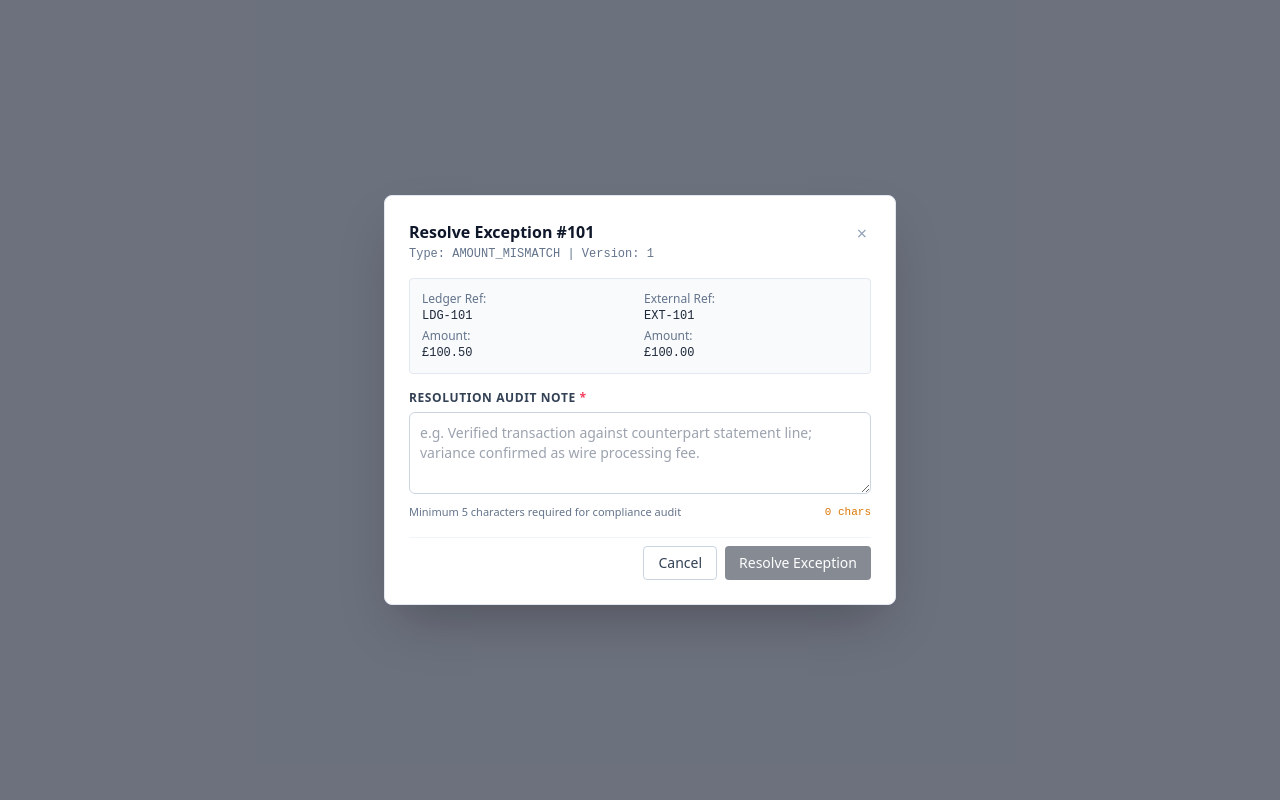
ResolveExceptionModal › requires confirmation step before final submission
This screenshot has width=1280, height=800.
Replace the text in the text box with placeholder "Verified transaction" with "Manual confirmation of FX difference" at (640,453), box [409, 412, 871, 494]
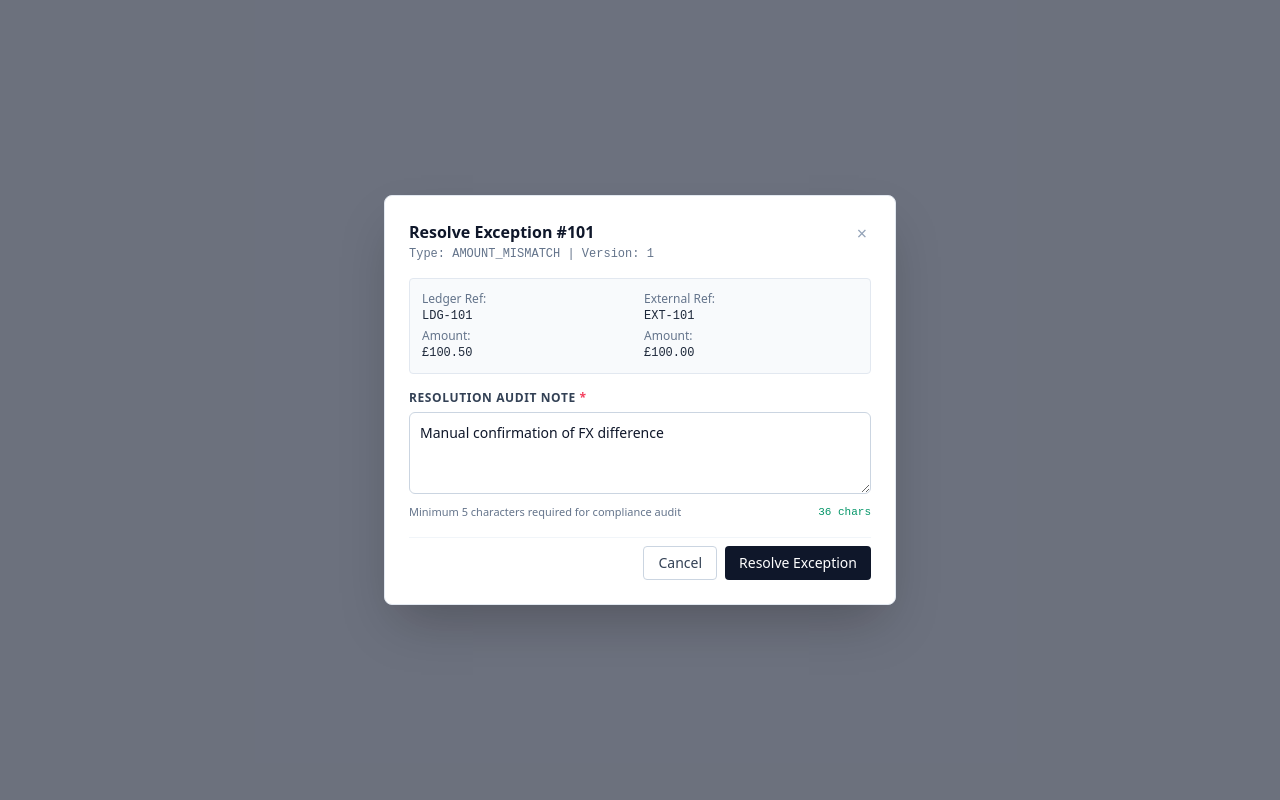
Click the button "Resolve Exception".
click(798, 563)  # box [725, 546, 871, 580]
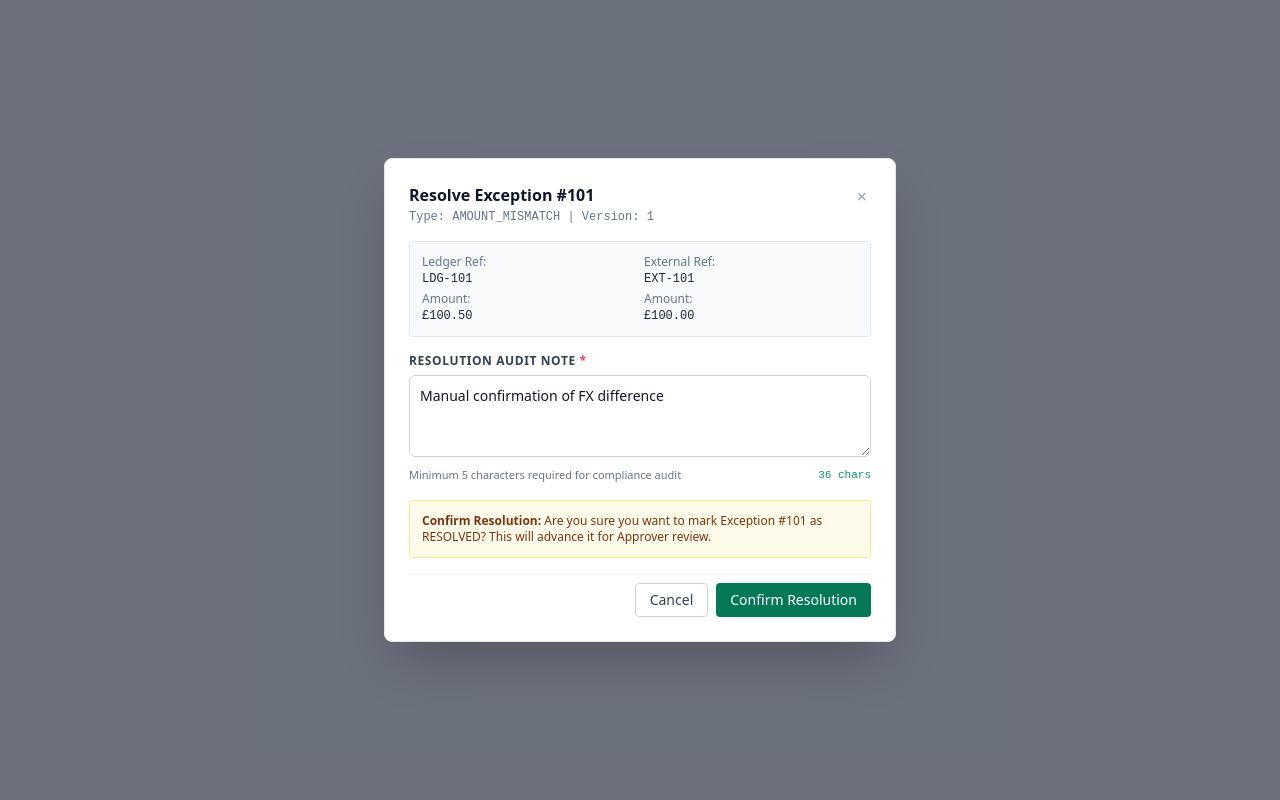
Check: the button "Confirm Resolution" is shown, box [716, 583, 871, 617]
Check: the text "Are you sure you want to mark Exception" is shown, box [541, 512, 786, 529]
